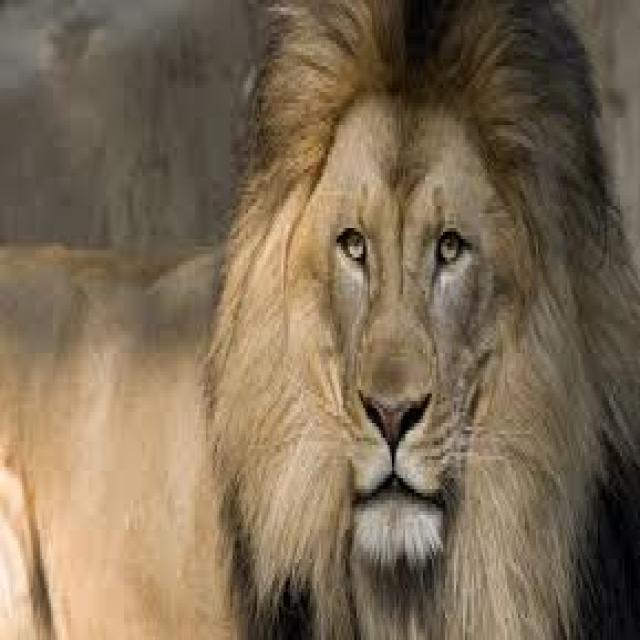Lion: (1, 0, 636, 636)
